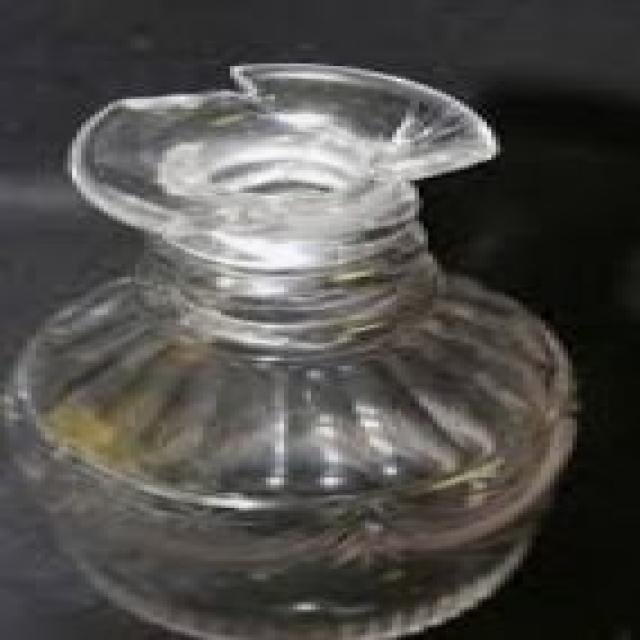electronic: (11, 64, 578, 640)
